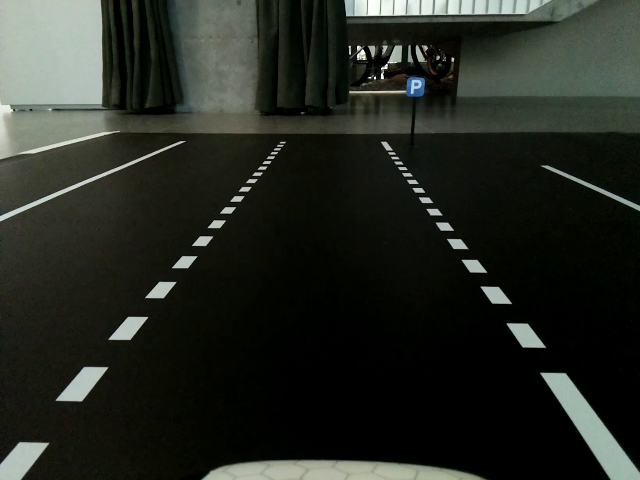park: (405, 77, 425, 96)
